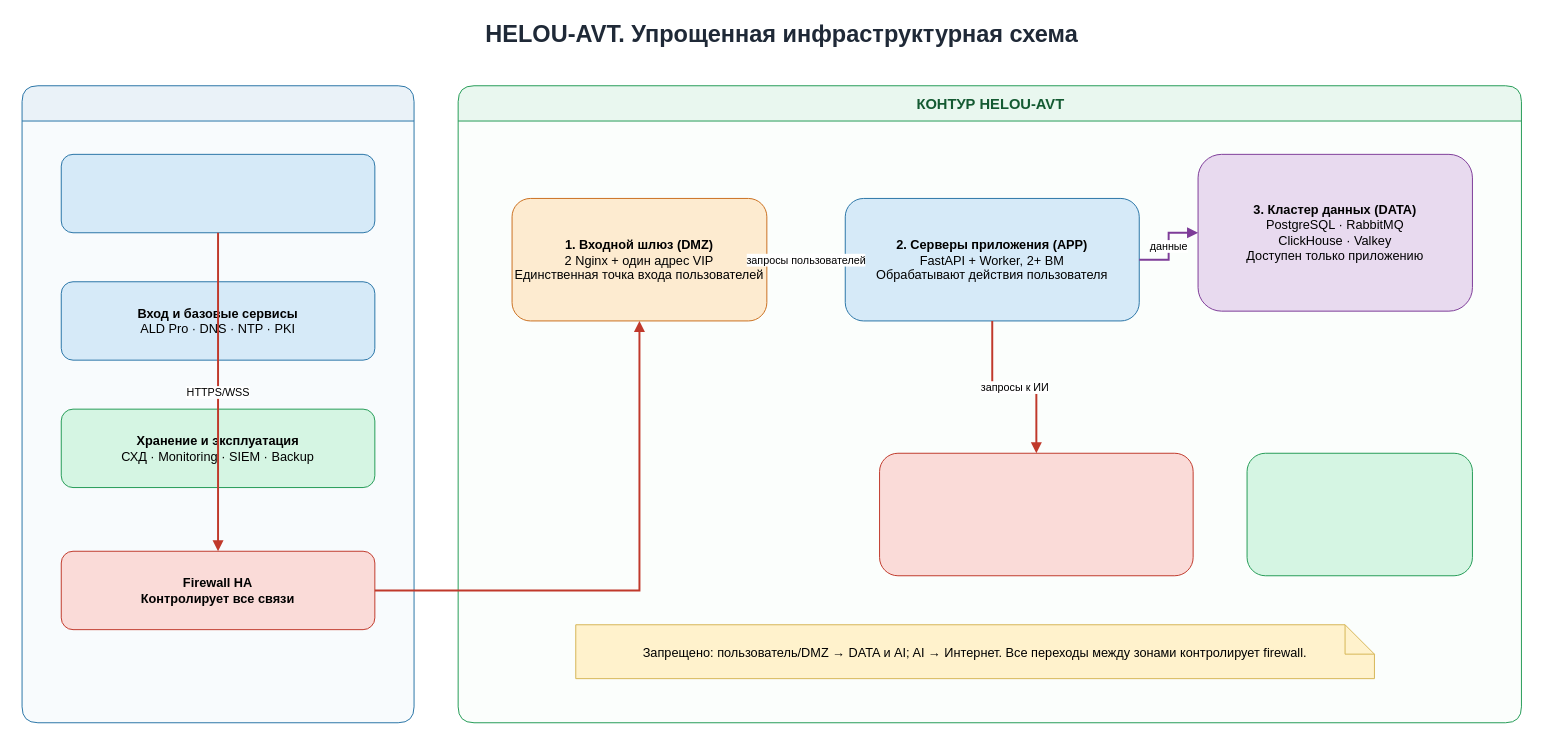
This 1562x740 diagram has some shape labels left out. The box of each missing label's shape, as (x1, y1, x2, y2) in pixels:
4. ИИ-кластер (AI) GPU + Qwen 2.5 + vLLM Изолированная сеть, без Интернета: (879, 452, 1193, 576)
КОРПОРАТИВНЫЕ СЕРВИСЫ ЗАКАЗЧИКА: (21, 85, 414, 723)
Пользователи VDI: Termidesk / Базис.WorkPlace: (60, 153, 375, 233)
Эксплуатация Журналы, метрики, backup через корпоративные сервисы: (1246, 452, 1472, 576)
